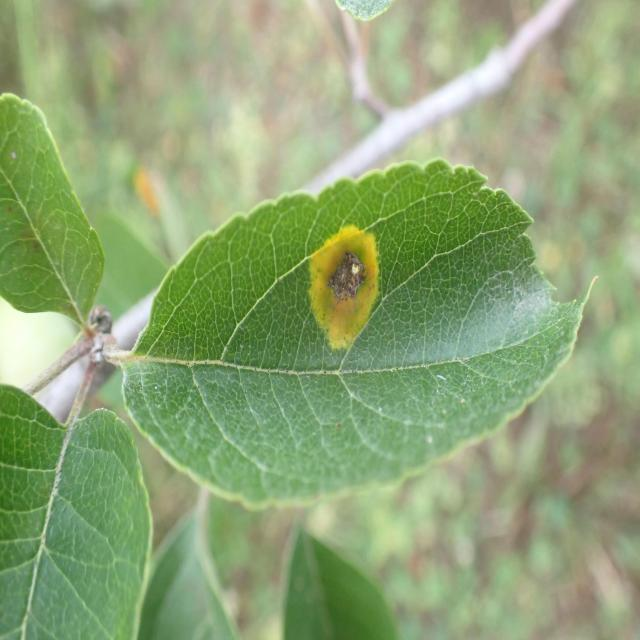Rust: (296, 218, 397, 351)
